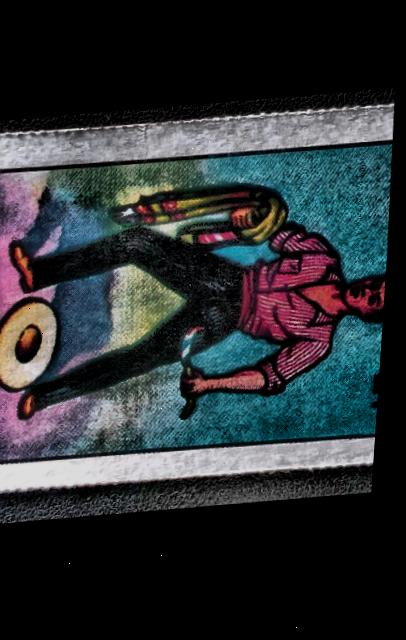El Valiente: (0, 113, 399, 484)
